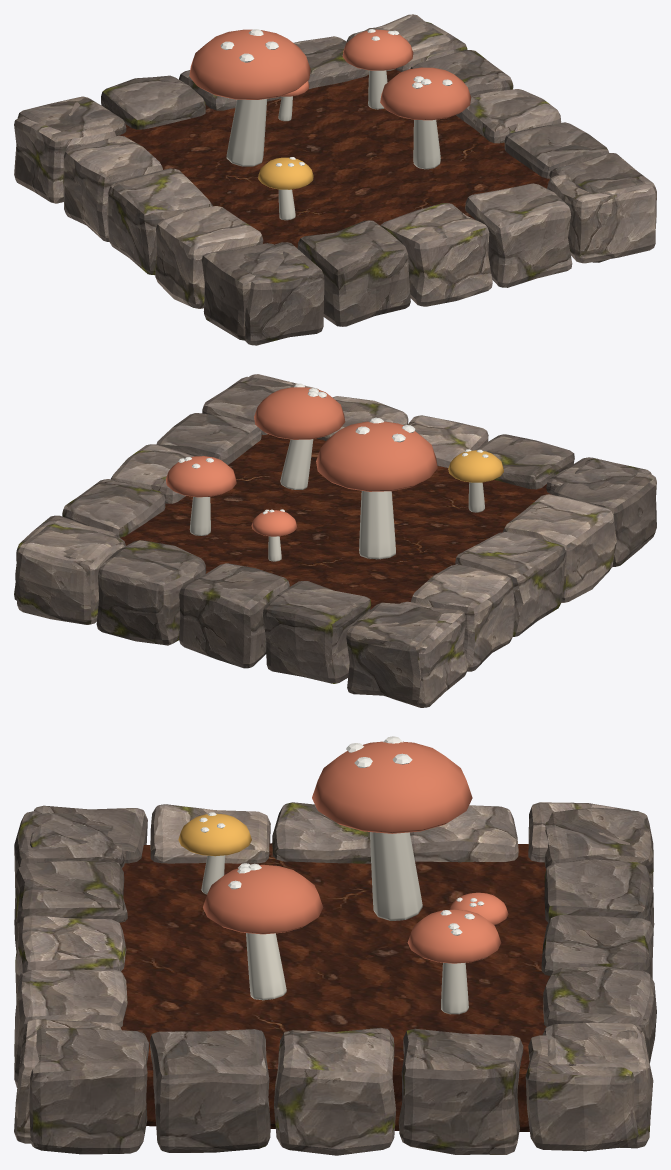
Rendered from farm_plot.glb.
3 views of the same model, one above another, from view 1: azimuth 30°, elevation 25°; view 2: azimuth 150°, elevation 25°; view 3: azimuth 270°, elevation 25° (orthographic). The views are drawn at different scales.
Visible parts, largest first — view 1: model; view 2: model; view 3: model.
Boxes of the visible parts, box(x1,y1,x2,y2) form: model: box(14, 14, 656, 345); model: box(14, 374, 656, 707); model: box(14, 736, 656, 1155).
Bounding box in the file's own units: 1.34 × 0.5474 × 1.34.
15 materials, 4 textured.
